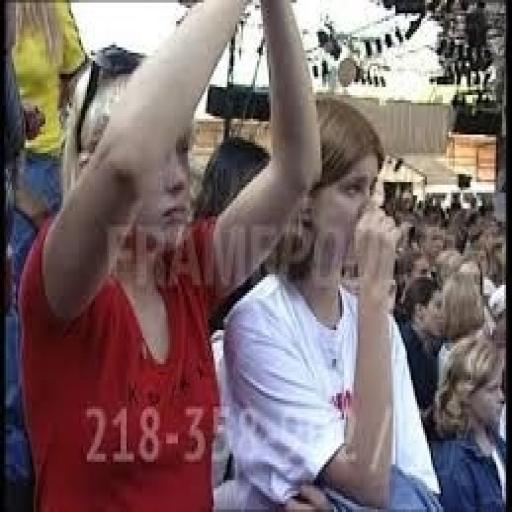clapping: (15, 0, 324, 509), (211, 92, 443, 510)
